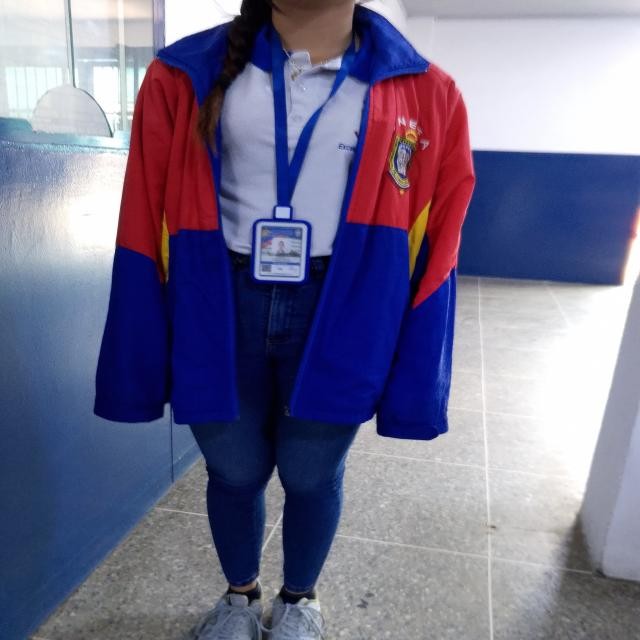carnet: (254, 222, 306, 280)
chaqueta_unefa: (92, 4, 476, 442)
